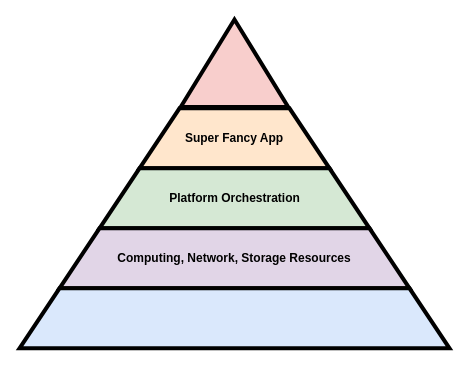
This 468x367 diagram has some shape labels left out. Each missing label, with the centre of its shape:
IA Agents & Services: (x=234, y=62)
Physical Infrastructure: (x=234, y=318)
